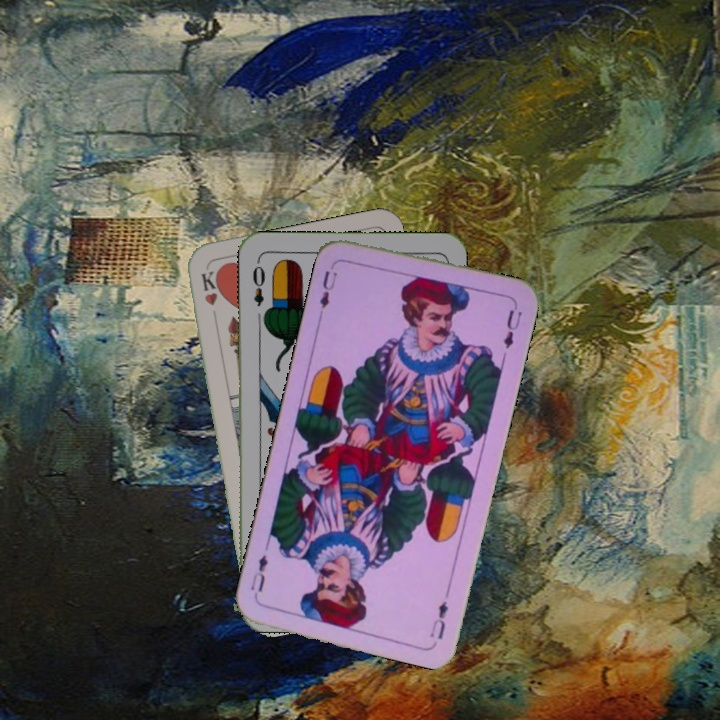EO: (248, 257, 268, 309)
EU: (315, 259, 340, 312), (426, 597, 451, 642)
HK: (197, 267, 219, 308)
